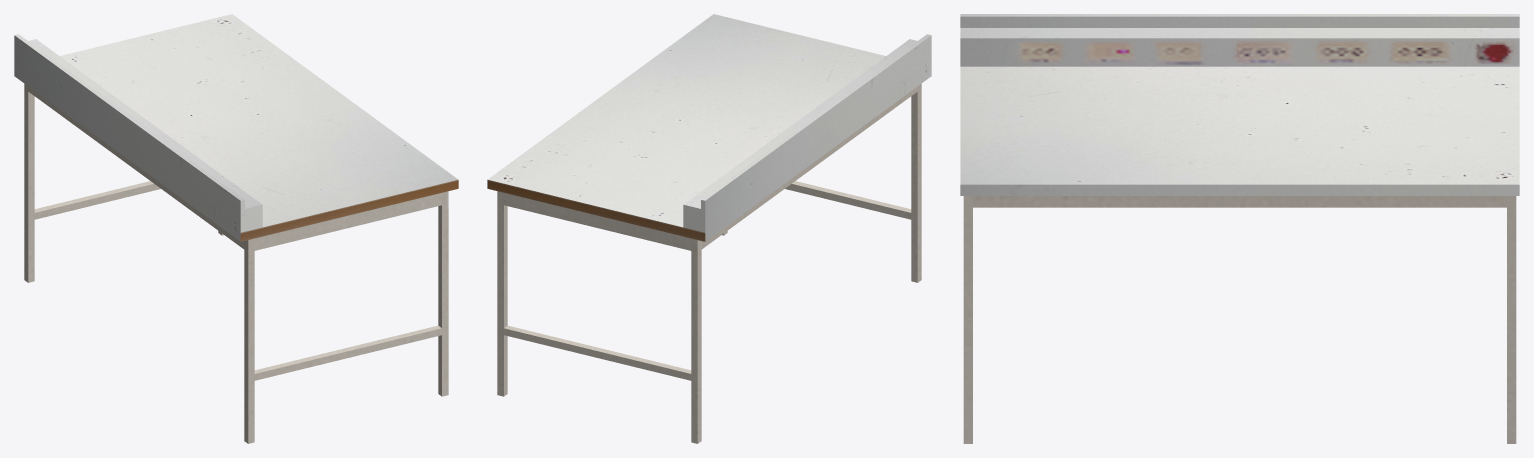
Rendered from Table_180.fbx.
The picture shows the model from 3 angles, left to right: view 1: azimuth 30°, elevation 25°; view 2: azimuth 150°, elevation 25°; view 3: azimuth 270°, elevation 25°; orthographic projection. The views are drawn at different scales.
Parts seen in each view (by area): view 1: Table 180; view 2: Table 180; view 3: Table 180.
Part boxes in pixels (x1,y1,x2,y2): Table 180: (14,14,458,443); Table 180: (487,14,931,443); Table 180: (960,14,1519,443).
Size of the model in its own units: 1 by 1.08 by 1.8.
